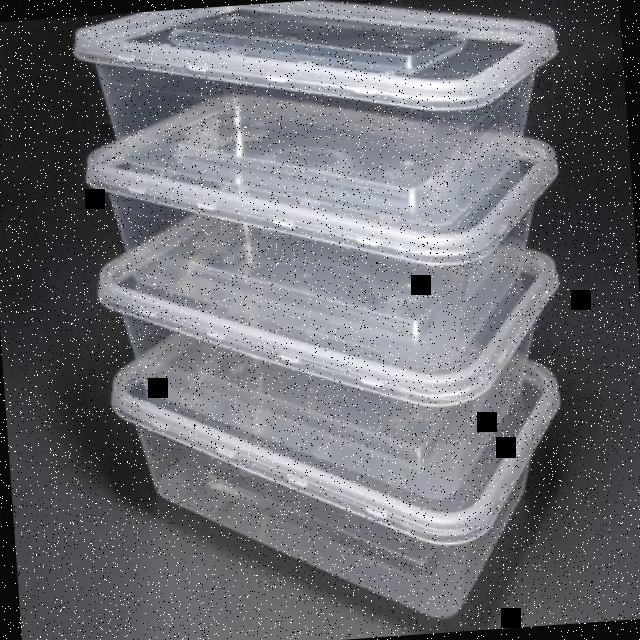plastic_box: (95, 277, 579, 640), (91, 164, 574, 522), (82, 69, 574, 393), (69, 0, 569, 256)
